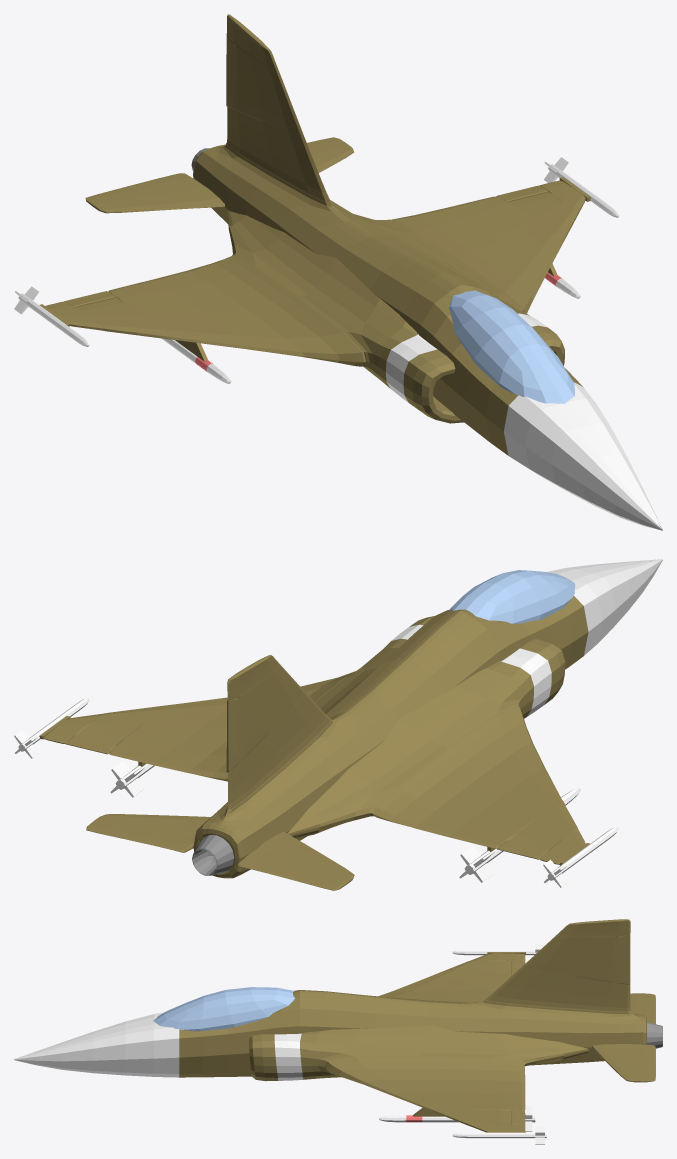
Rendered from FighterJet.fbx.
3 views of the same model, one above another, from view 1: azimuth 30°, elevation 25°; view 2: azimuth 150°, elevation 25°; view 3: azimuth 270°, elevation 25° (orthographic). The views are drawn at different scales.
Parts seen in each view (by area): view 1: Body_Main_Mesh, Wing_Main_Mesh, Body_Wing_Mesh, Wing_Tail_Mesh, Canopy_Mesh, PitchWing_R, PitchWing_L, Wpn_Missile_Mesh3.001, Wpn_Missile_Mesh3.000; view 2: Body_Main_Mesh, Wing_Main_Mesh, Body_Wing_Mesh, Wing_Tail_Mesh, Canopy_Mesh, PitchWing_R, PitchWing_L, Thruster_Mesh, Wpn_Missile_Mesh0, YawWing_Mesh, Wpn_Missile_Mesh3.001, Wpn_Missile_Mesh1 (+3 smaller); view 3: Body_Main_Mesh, Wing_Main_Mesh, Body_Wing_Mesh, Wing_Tail_Mesh, Canopy_Mesh, PitchWing_L, Wpn_Missile_Mesh1, Wpn_Missile_Mesh3.000, YawWing_Mesh, PitchWing_R, Wpn_Missile_Mesh3.001, Thruster_Mesh.
Part boxes in pixels (box(x1,y1,x2,y2)): Body_Main_Mesh: box(193, 144, 662, 530); Wing_Main_Mesh: box(45, 180, 585, 366); Body_Wing_Mesh: box(227, 210, 564, 423); Wing_Tail_Mesh: box(226, 14, 331, 203); Canopy_Mesh: box(448, 290, 574, 403); PitchWing_R: box(85, 173, 224, 213); PitchWing_L: box(307, 137, 354, 172); Wpn_Missile_Mesh3.001: box(14, 286, 89, 346); Wpn_Missile_Mesh3.000: box(544, 157, 619, 217); Body_Main_Mesh: box(193, 559, 662, 878); Wing_Main_Mesh: box(44, 671, 585, 864); Body_Wing_Mesh: box(287, 616, 565, 838); Wing_Tail_Mesh: box(226, 655, 331, 811); Canopy_Mesh: box(449, 570, 575, 623); PitchWing_R: box(237, 832, 354, 890); PitchWing_L: box(86, 814, 210, 852); Thruster_Mesh: box(192, 835, 234, 875); Wpn_Missile_Mesh0: box(459, 788, 580, 882); YawWing_Mesh: box(226, 697, 239, 772); Wpn_Missile_Mesh3.001: box(543, 827, 618, 887); Wpn_Missile_Mesh1: box(110, 761, 154, 797); Body_Main_Mesh: box(14, 990, 646, 1077); Wing_Main_Mesh: box(325, 953, 525, 1132); Body_Wing_Mesh: box(249, 1025, 589, 1081); Wing_Tail_Mesh: box(484, 919, 631, 1012); Canopy_Mesh: box(153, 987, 294, 1031); PitchWing_L: box(592, 1044, 655, 1082); Wpn_Missile_Mesh1: box(379, 1106, 535, 1131); Wpn_Missile_Mesh3.000: box(452, 1126, 546, 1144); YawWing_Mesh: box(617, 933, 630, 985); PitchWing_R: box(630, 993, 655, 1023); Wpn_Missile_Mesh3.001: box(452, 943, 544, 955); Thruster_Mesh: box(647, 1022, 662, 1048).
Size of the model in its own units: 416 by 287 by 106.
